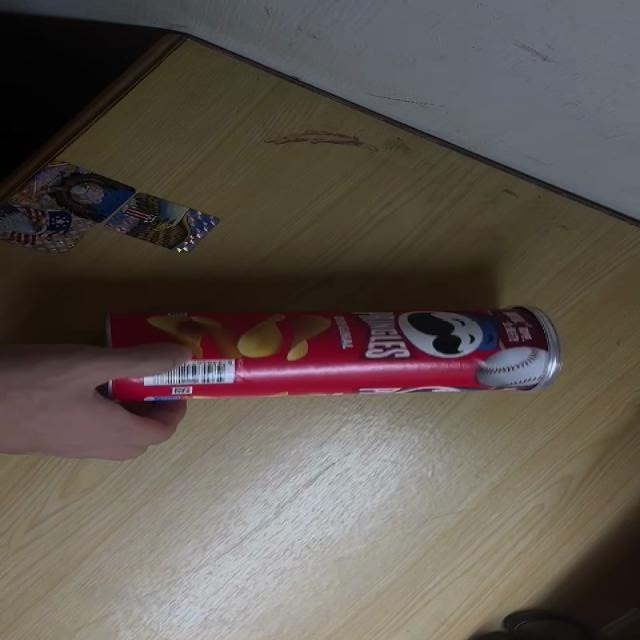Pringles: (104, 306, 561, 401)
